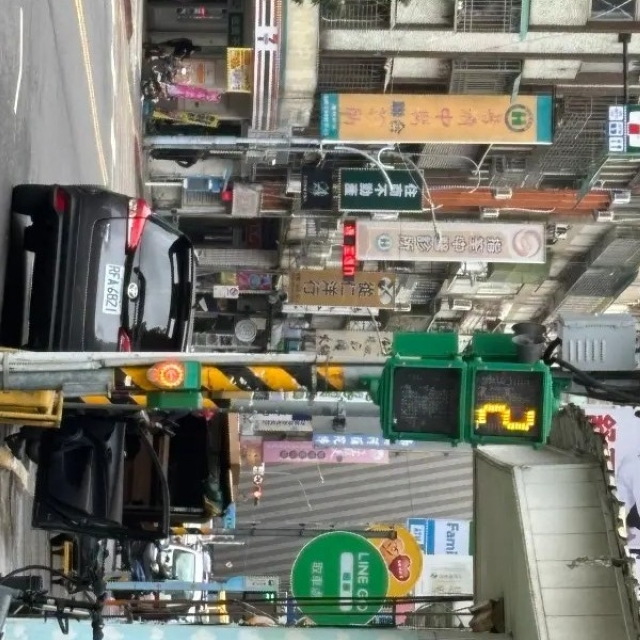green_light: (383, 357, 550, 447)
